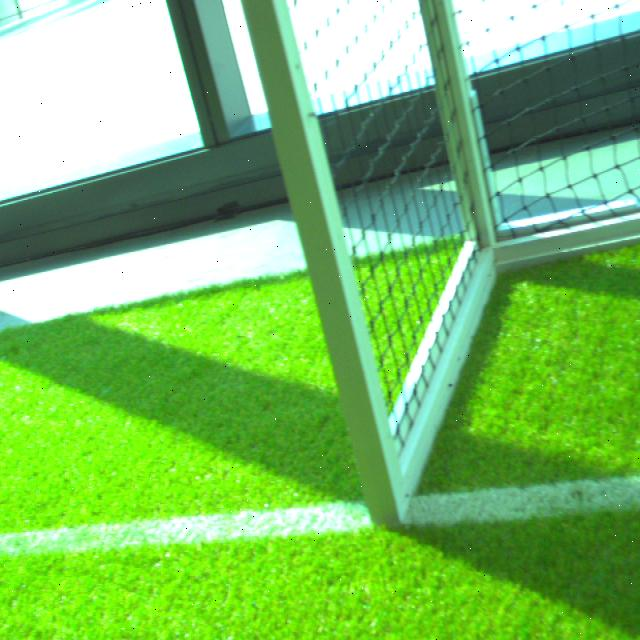goalpost: (240, 0, 413, 524)
